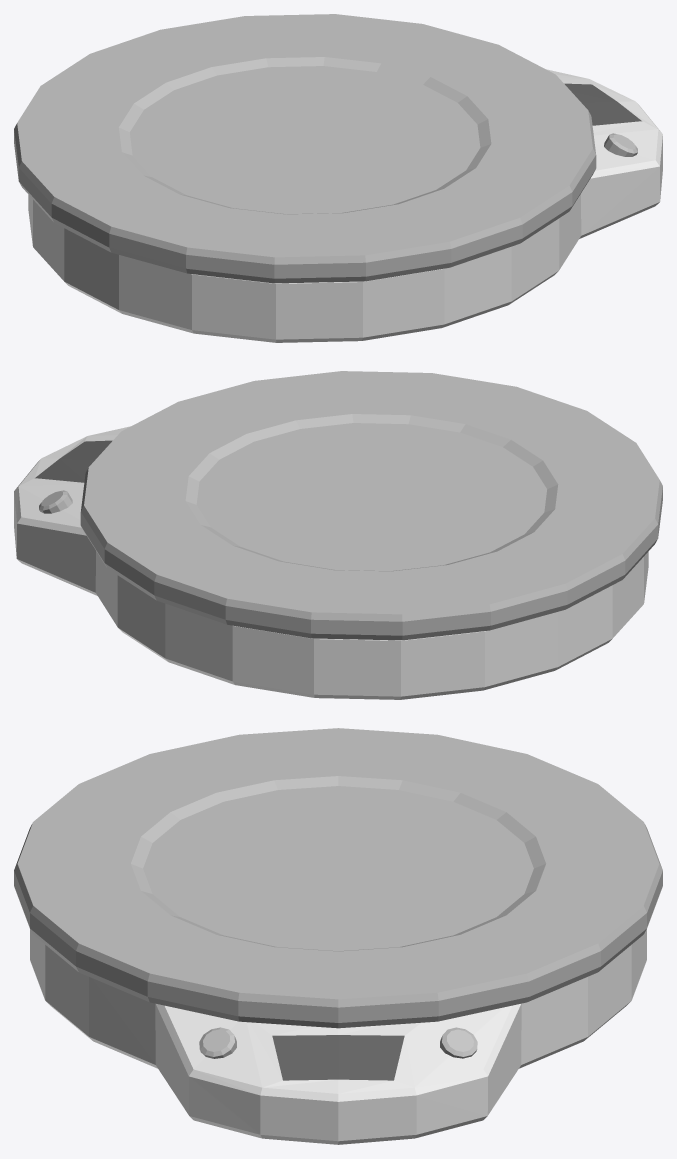
The model's file is WeightMeter.glb.
3 renders of one model, top to bottom at view 1: azimuth 30°, elevation 25°; view 2: azimuth 150°, elevation 25°; view 3: azimuth 270°, elevation 25°, orthographic. The views are drawn at different scales.
Visible parts, largest first — view 1: Kitchen_Scale; view 2: Kitchen_Scale; view 3: Kitchen_Scale.
Part boxes in pixels (x1,y1,x2,y2): Kitchen_Scale: [14, 14, 662, 342]; Kitchen_Scale: [14, 371, 662, 699]; Kitchen_Scale: [14, 728, 662, 1144].
Size of the model in its own units: 74.3 by 11.14 by 64.05.
1 material, 1 textured.
